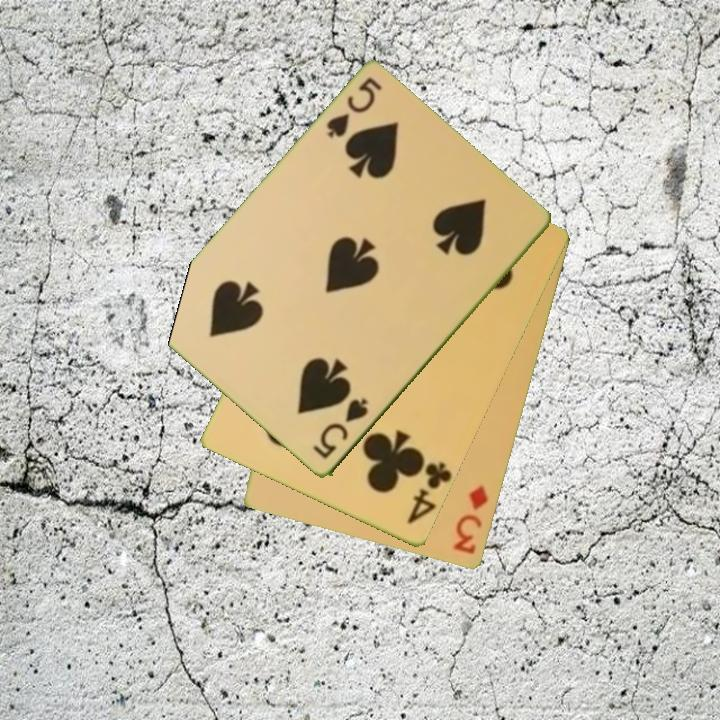3d: (450, 482, 492, 558)
4c: (404, 459, 454, 528)
5s: (309, 395, 372, 463), (322, 74, 385, 142)
